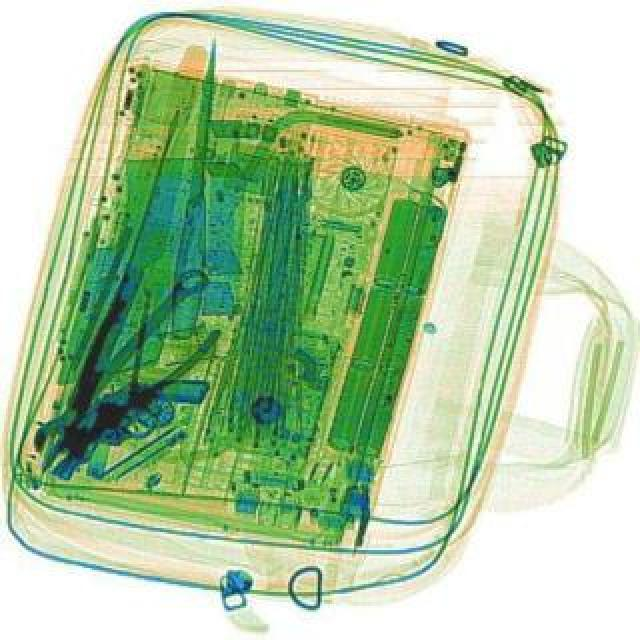gun: (50, 346, 210, 518)
knife: (66, 130, 208, 420), (164, 38, 226, 344)
scissors: (22, 264, 218, 472)
